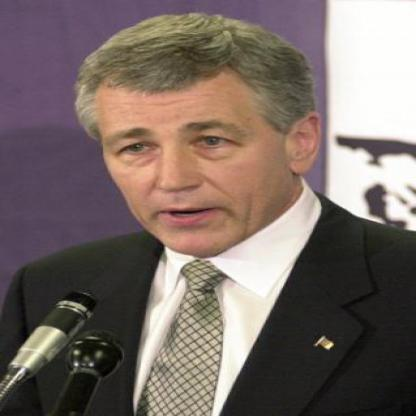face: (93, 31, 290, 259)
